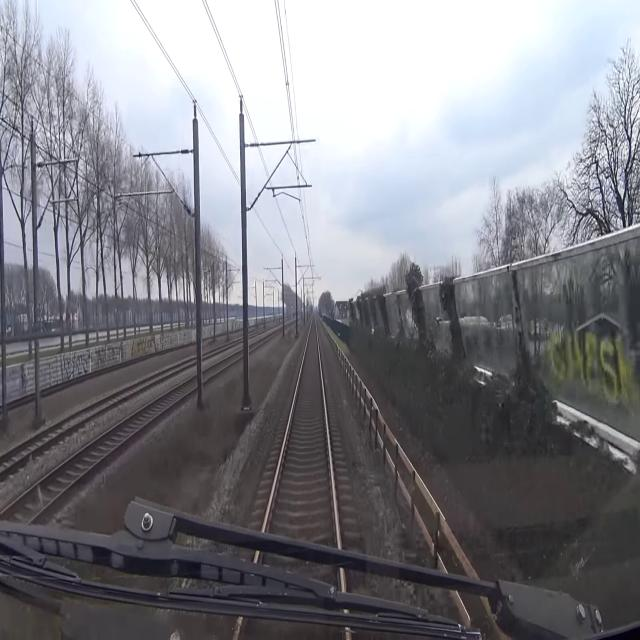rail-track: (0, 376, 197, 527), (266, 318, 337, 546), (0, 383, 143, 469), (201, 351, 242, 379)
